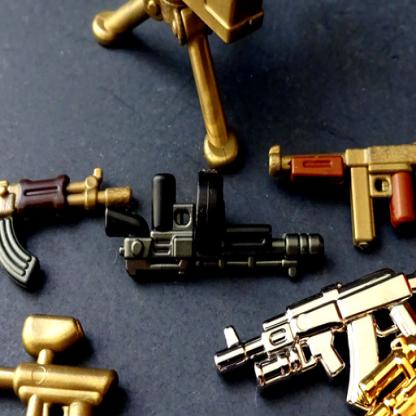gun: (0, 144, 415, 415), (0, 0, 339, 170)
